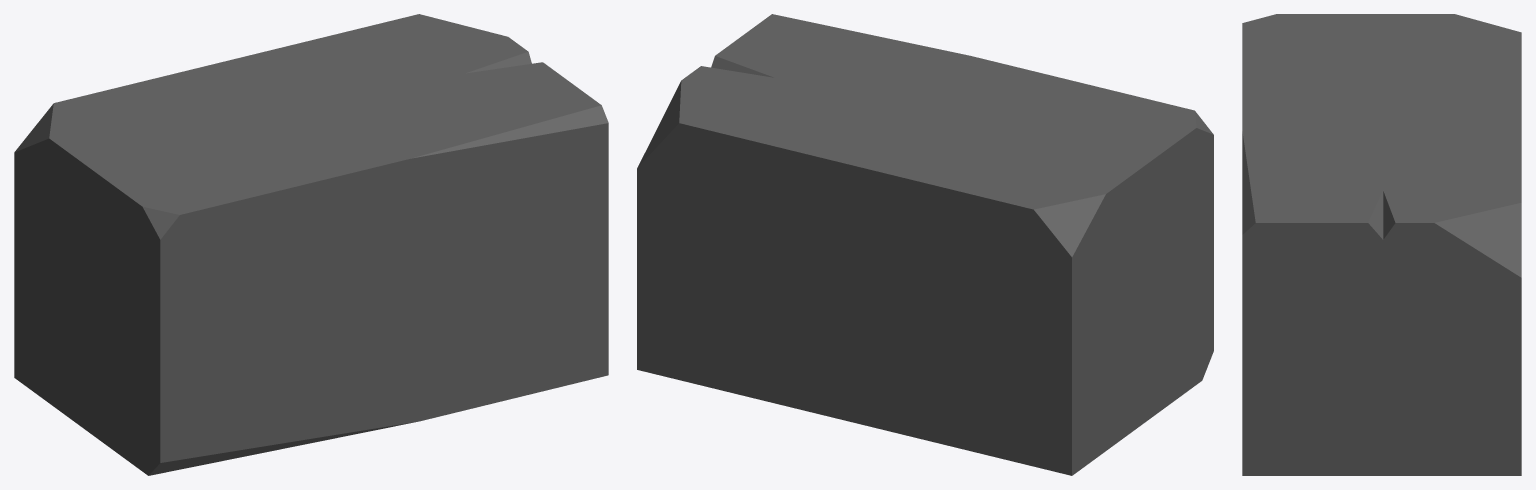
Rendered from Brick_01.fbx.
3 views of the same model, side by side, from view 1: azimuth 30°, elevation 25°; view 2: azimuth 150°, elevation 25°; view 3: azimuth 270°, elevation 25° (orthographic). The views are drawn at different scales.
Parts seen in each view (by area): view 1: Brick_01_LOD0; view 2: Brick_01_LOD0; view 3: Brick_01_LOD0.
Boxes of the visible parts, <box> form: Brick_01_LOD0: <box>14,14,608,475</box>; Brick_01_LOD0: <box>637,14,1213,475</box>; Brick_01_LOD0: <box>1242,14,1521,475</box>.
Size of what is drawn, in the model's own units: 0.4264 by 0.2408 by 0.2408.
